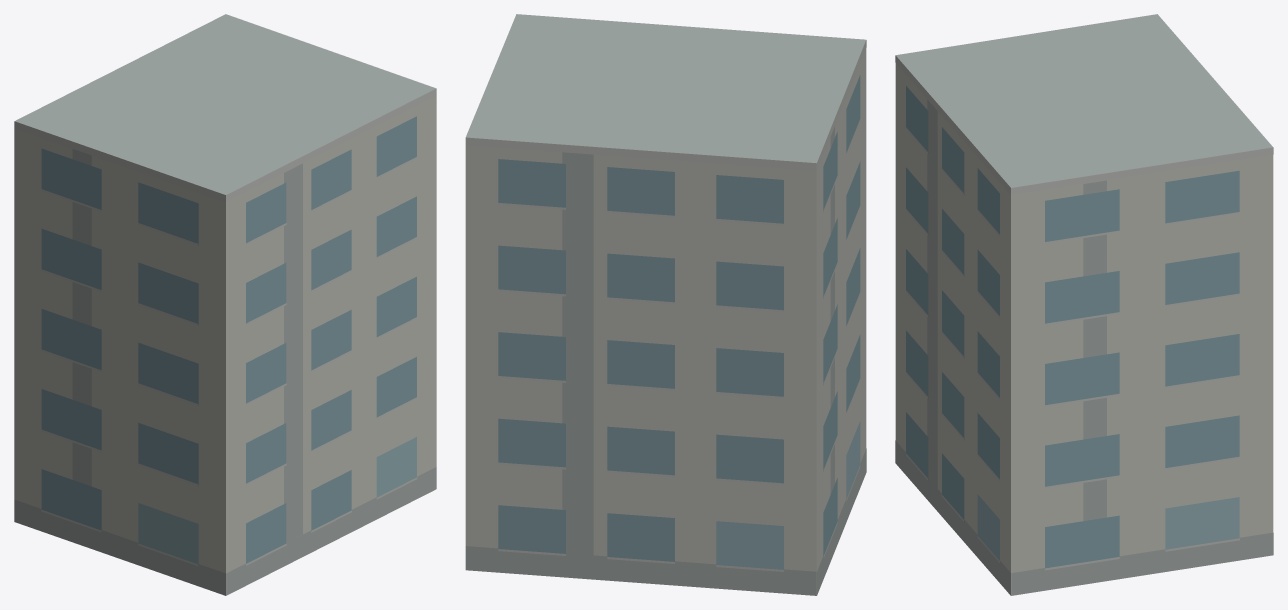
File: survey-upis-32809254.glb
The picture shows the model from 3 angles, left to right: view 1: azimuth 30°, elevation 25°; view 2: azimuth 150°, elevation 25°; view 3: azimuth 270°, elevation 25°; orthographic projection. The views are drawn at different scales.
Visible parts, largest first — view 1: survey-upis-32809254.tmp; view 2: survey-upis-32809254.tmp; view 3: survey-upis-32809254.tmp.
Part boxes in pixels (left/top/right/bottom): survey-upis-32809254.tmp: left=14, top=14, right=436, bottom=595; survey-upis-32809254.tmp: left=465, top=14, right=866, bottom=595; survey-upis-32809254.tmp: left=895, top=14, right=1273, bottom=595.
Size of the model in its own units: 12.4 by 13.55 by 11.39.
